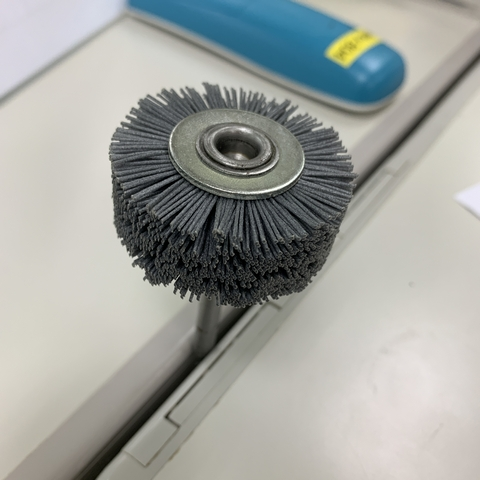Wheel Brush: (98, 73, 356, 336), (114, 82, 345, 331)
